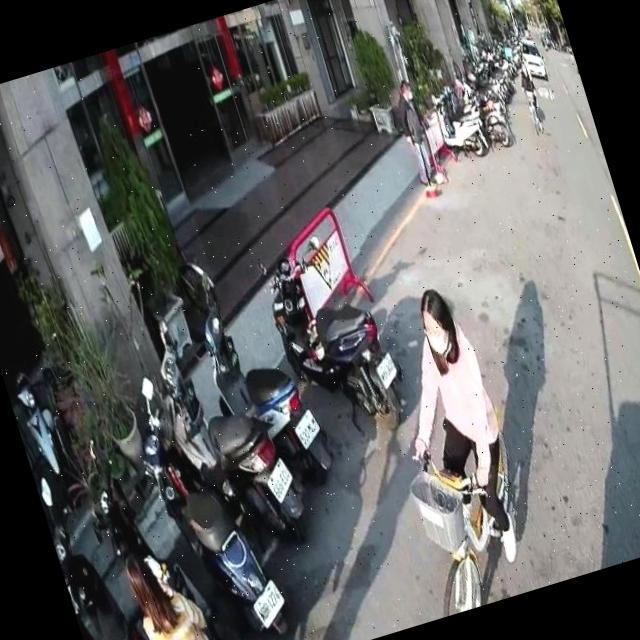person: (362, 269, 540, 582), (106, 518, 245, 640), (384, 72, 442, 190), (512, 56, 548, 132)
